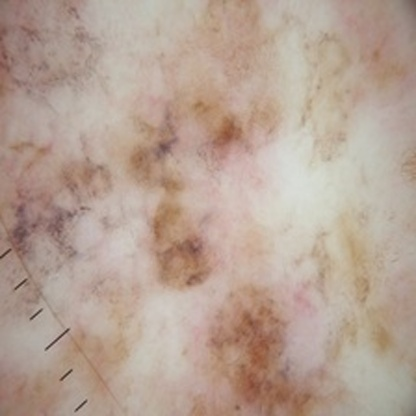malignant: (121, 100, 272, 282), (192, 294, 379, 415), (11, 142, 114, 269)
